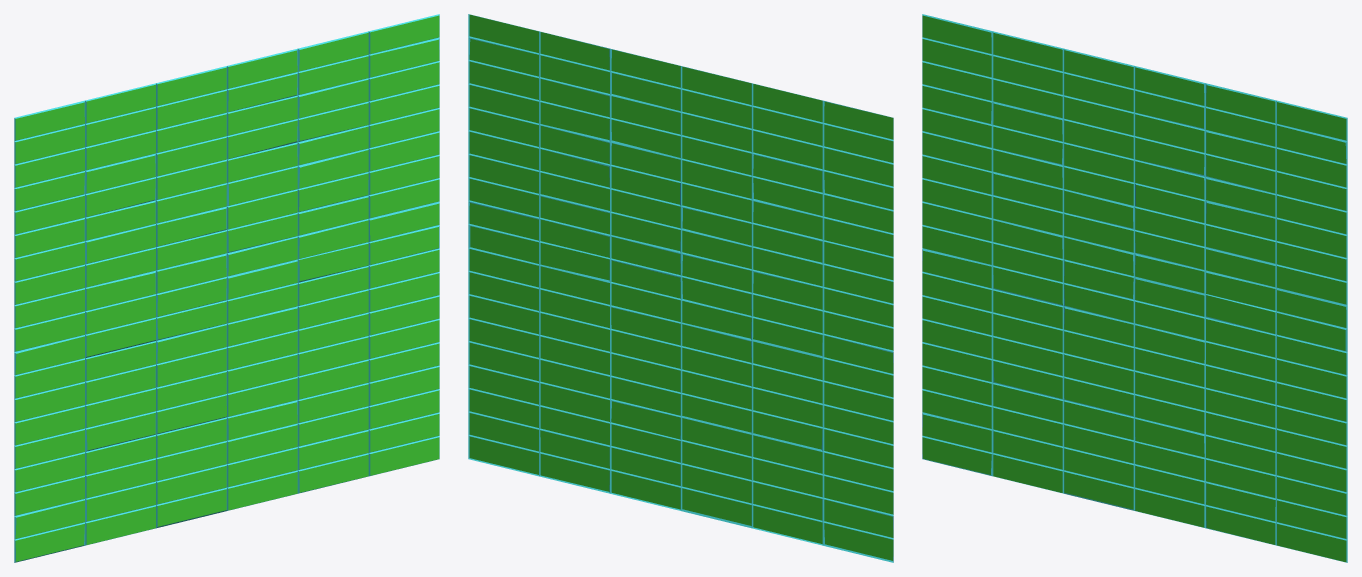
File: Wall_41_A.fbx
3 views of the same model, side by side, from view 1: azimuth 30°, elevation 25°; view 2: azimuth 150°, elevation 25°; view 3: azimuth 330°, elevation 25° (orthographic).
Visible parts, largest first — view 1: Wall_41_A; view 2: Wall_41_A; view 3: Wall_41_A.
Boxes of the visible parts, x1,y1,x2,y2 form: Wall_41_A: (14,14,439,562); Wall_41_A: (468,14,893,562); Wall_41_A: (922,14,1347,562).
Bounding box in the file's own units: 457 × 457 × 1.08.
